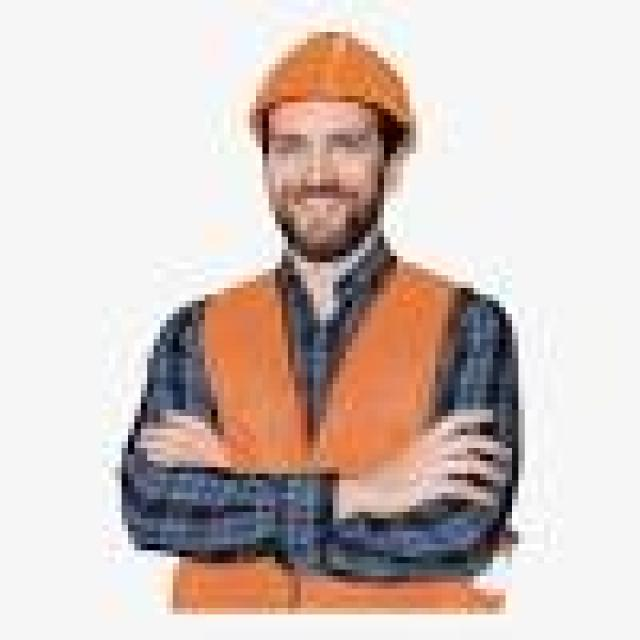Reflective-Jacket: (122, 256, 499, 608)
Safety-Helmet: (230, 7, 442, 148)
